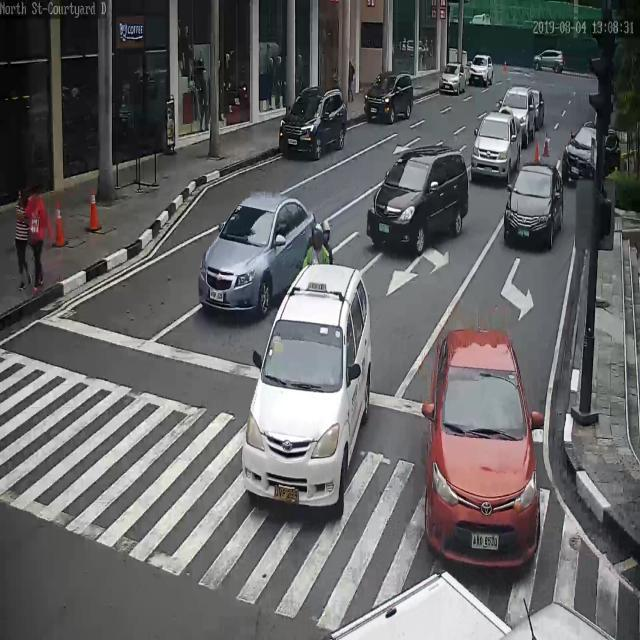car: (242, 264, 373, 511), (423, 324, 540, 573), (323, 572, 618, 640), (197, 192, 315, 315), (367, 143, 469, 257), (505, 161, 565, 250), (279, 89, 348, 163), (471, 110, 522, 185), (564, 121, 621, 186), (364, 74, 414, 127), (501, 88, 535, 145), (533, 50, 565, 80), (439, 64, 468, 97), (469, 55, 495, 87), (533, 87, 546, 130)
jeepney: (302, 216, 333, 276)
